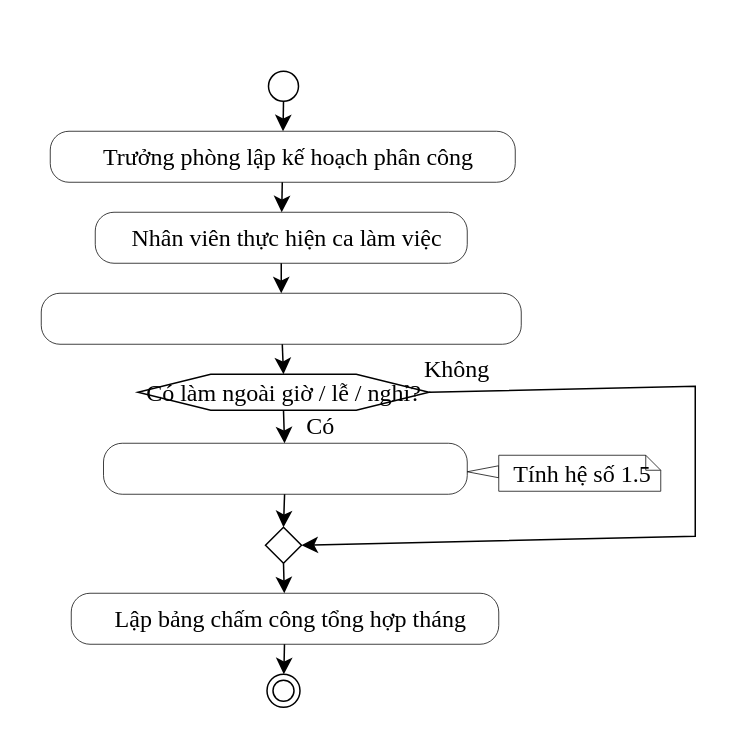
Some shapes in this 737 by 734 pixel diagram are drawn without their labels. The box of each missing label's shape, as (x1, y1, x2, y2) in pixels:
Ban chấm công theo dõi & ghi nhận hằng ngày: (40, 292, 521, 344)
Lập phiếu ghi nhận giờ phụ trội: (102, 442, 467, 494)
